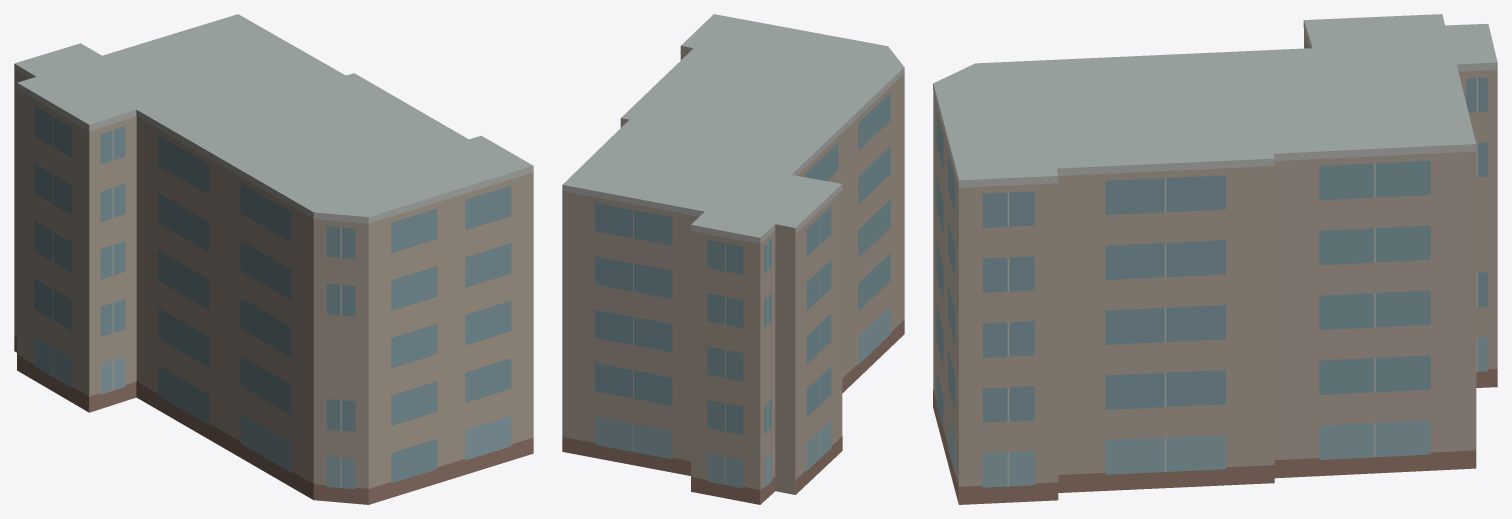
Rendered from survey-upis-32699141.glb.
3 views of the same model, side by side, from view 1: azimuth 30°, elevation 25°; view 2: azimuth 150°, elevation 25°; view 3: azimuth 270°, elevation 25° (orthographic). The views are drawn at different scales.
Parts seen in each view (by area): view 1: survey-upis-32699141.tmp; view 2: survey-upis-32699141.tmp; view 3: survey-upis-32699141.tmp.
Part boxes in pixels (left/top/right/bottom): survey-upis-32699141.tmp: left=14, top=14, right=533, bottom=504; survey-upis-32699141.tmp: left=562, top=14, right=904, bottom=504; survey-upis-32699141.tmp: left=933, top=14, right=1497, bottom=504.
Size of the model in its own units: 11.72 by 10.65 by 16.8.
